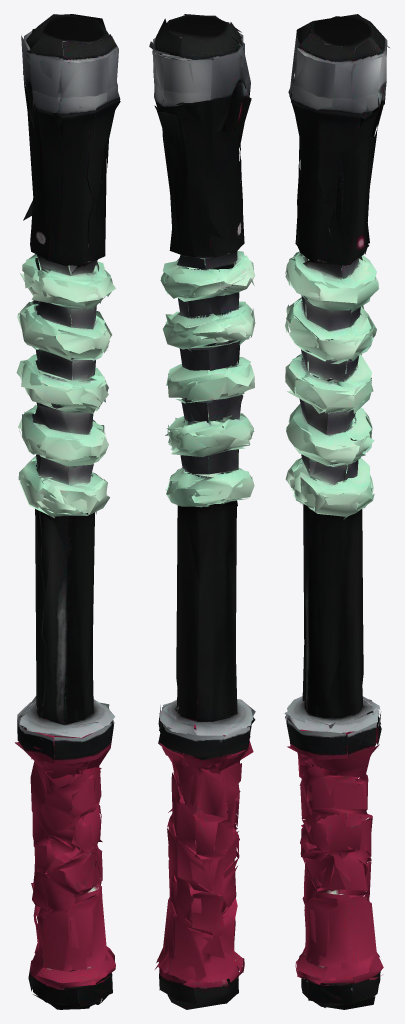
Rendered from volt_baton_mobile.glb.
The picture shows the model from 3 angles, left to right: view 1: azimuth 30°, elevation 25°; view 2: azimuth 150°, elevation 25°; view 3: azimuth 330°, elevation 25°; orthographic projection.
Parts seen in each view (by area): view 1: volt_baton_mobile; view 2: volt_baton_mobile; view 3: volt_baton_mobile.
Part boxes in pixels (x1,y1,x2,y2): volt_baton_mobile: (15, 14, 120, 1009); volt_baton_mobile: (149, 14, 255, 1009); volt_baton_mobile: (284, 14, 389, 1009).
Size of the model in its own units: 0.0645 by 0.6503 by 0.0621.
Materials: 1 (1 with a texture image).
